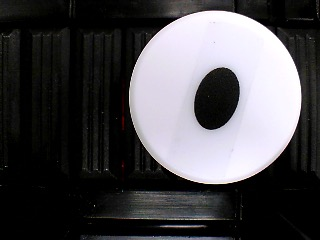BOHOEL: (128, 10, 303, 185)
